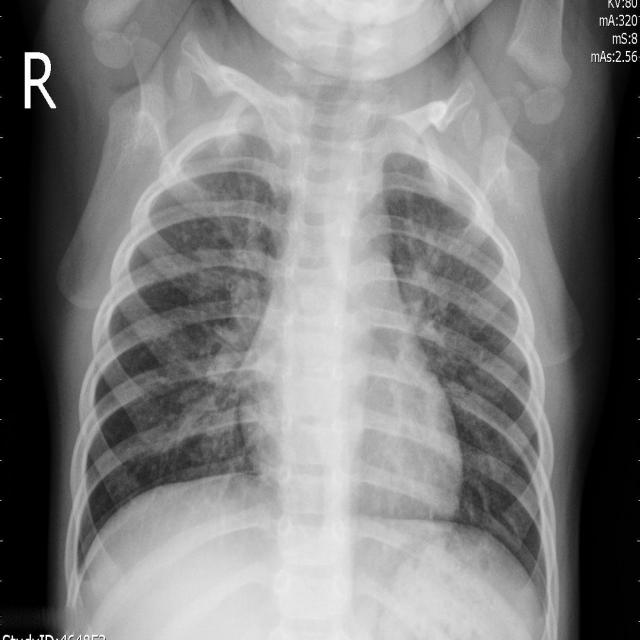low-pneumonia: (207, 205, 277, 381), (398, 228, 477, 380)
